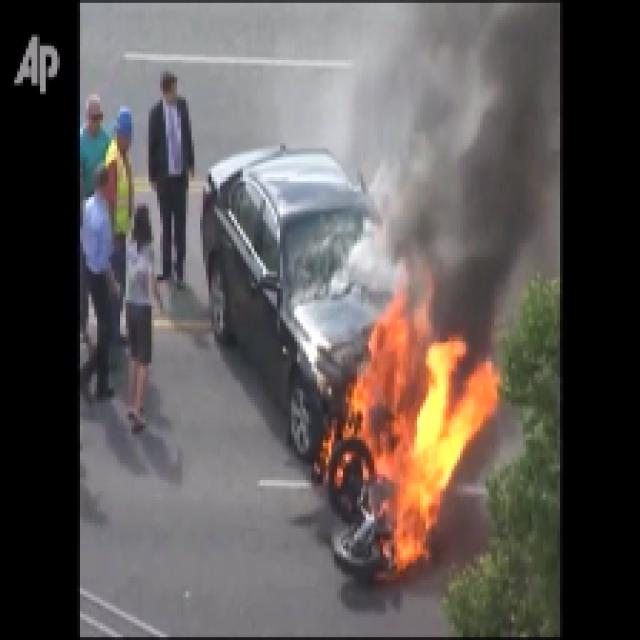fire: (326, 339, 501, 566)
smoke: (368, 8, 556, 240)
